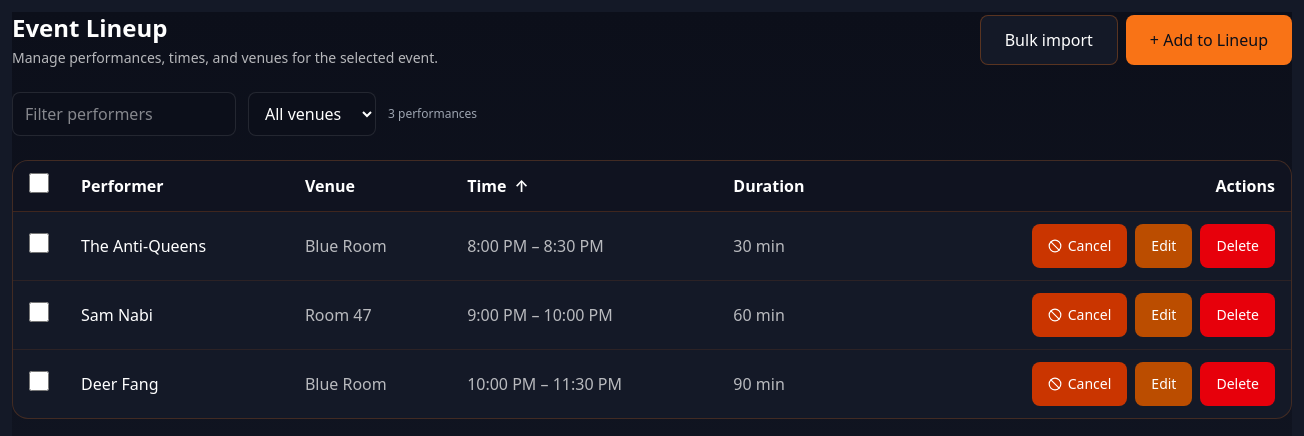
Test: LineupTab — filtering and sorting › search narrows to a case-insensitive substring match on the name
The image size is (1304, 436).
Expected: the table is shown, [13,161,1291,418]
In the field with placeholder "Filter performers": (124, 114) [12,92,236,136], type "anti"
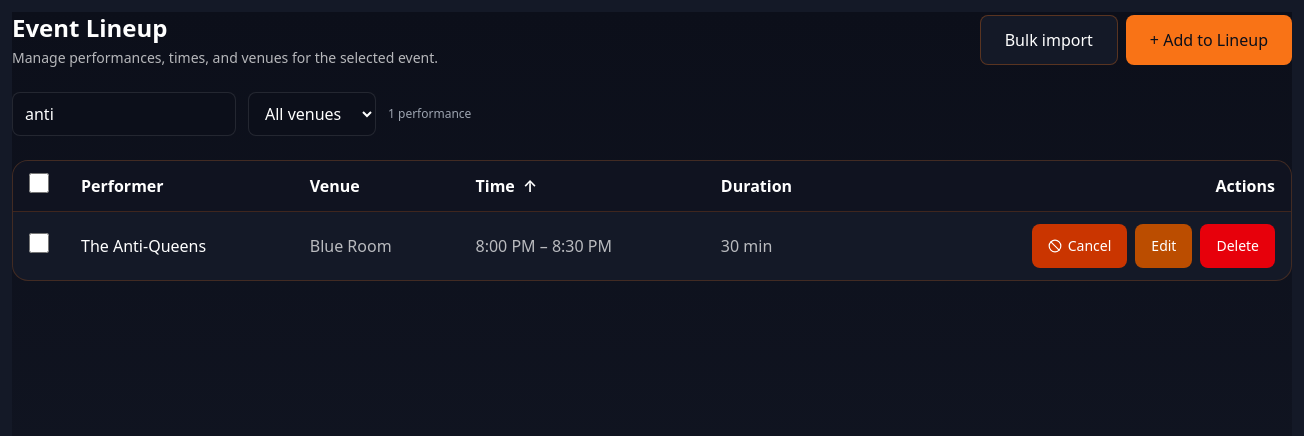
Expected: the text "The Anti-Queens" is shown, [81,234,206,258]
Expected: the text "Sam Nabi" is gone
Expected: the text "Deer Fang" is gone
